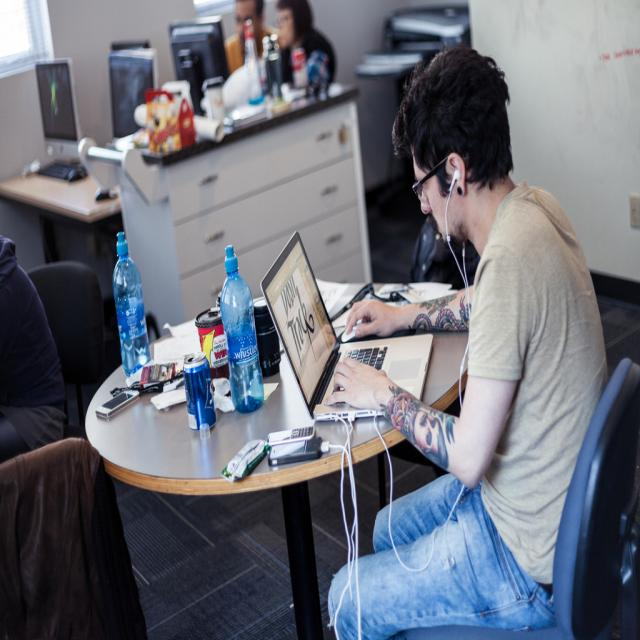chair: (388, 360, 638, 632), (0, 436, 148, 635), (28, 260, 104, 437)
desk: (84, 282, 469, 640)
laptop: (260, 228, 433, 424)
person: (318, 42, 608, 634), (0, 235, 68, 463)
tv: (35, 57, 83, 144)
